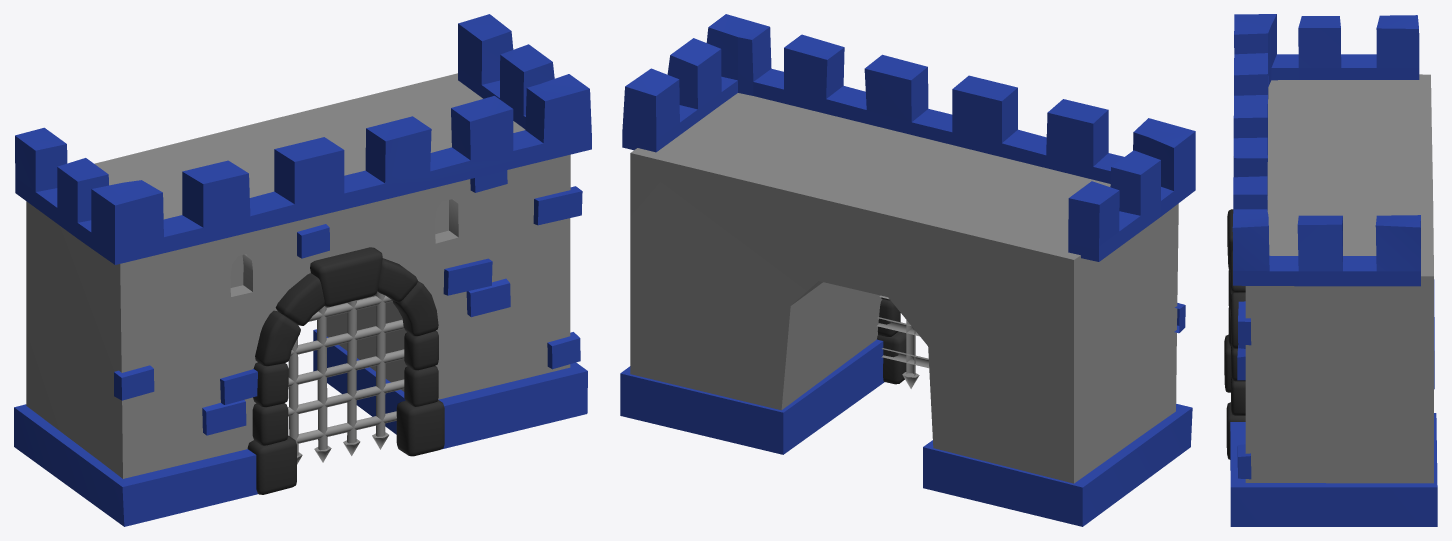
The model's file is Ruins_Wall_01_mm.fbx.
3 renders of one model, left to right at view 1: azimuth 30°, elevation 25°; view 2: azimuth 150°, elevation 25°; view 3: azimuth 270°, elevation 25°, orthographic. The views are drawn at different scales.
Visible parts, largest first — view 1: Ruins_Wall_01, Cage; view 2: Ruins_Wall_01, Cage; view 3: Ruins_Wall_01.
Part boxes in pixels (x1=…): Ruins_Wall_01: x1=14, y1=14, x2=591, y2=526; Cage: x1=287, y1=291, x2=404, y2=464; Ruins_Wall_01: x1=620, y1=14, x2=1195, y2=526; Cage: x1=877, y1=295, x2=929, y2=388; Ruins_Wall_01: x1=1224, y1=14, x2=1437, y2=526.
Bounding box in the file's own units: 707 × 460 × 293.
